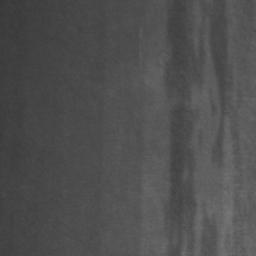Inclusion: (164, 0, 218, 256), (205, 0, 229, 165)
